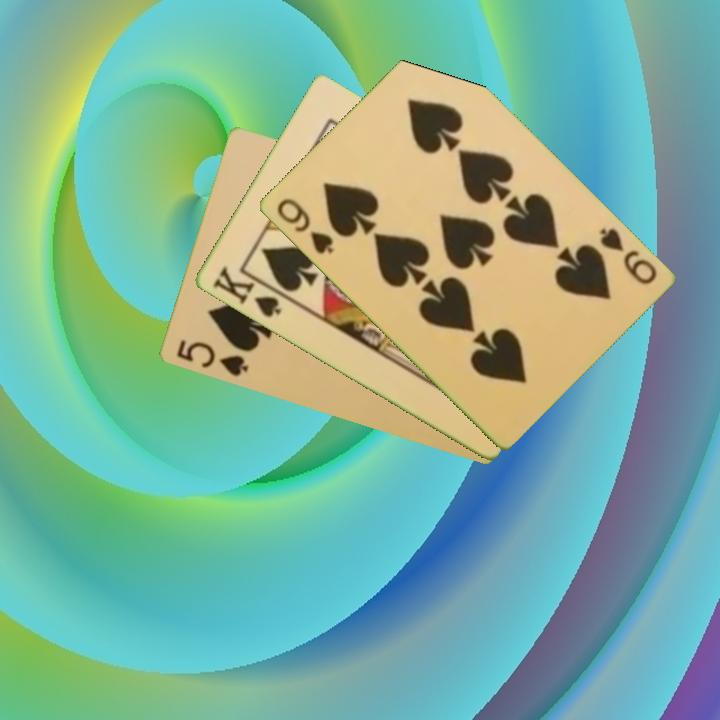5s: (172, 336, 251, 380)
9s: (595, 224, 659, 288), (272, 195, 336, 257)
Ks: (208, 262, 290, 321)
